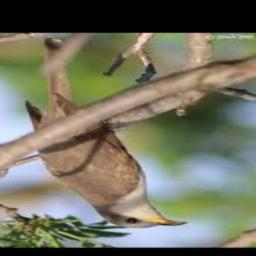Cuckoo: (26, 37, 187, 228)
